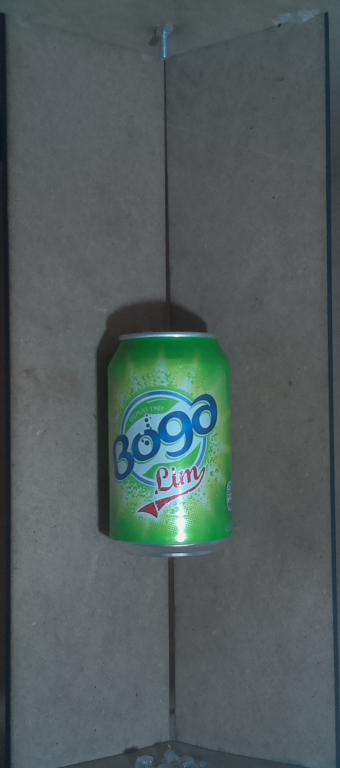Canette: (95, 321, 243, 568)
